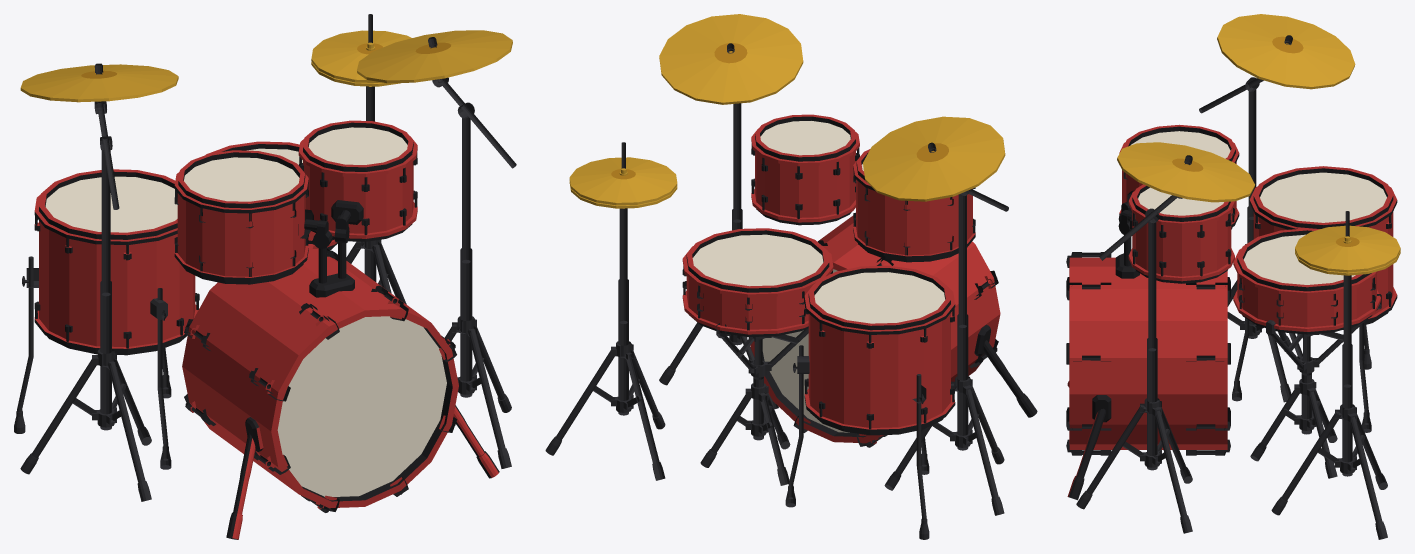
The model's file is DrumKit.fbx.
3 views of the same model, side by side, from view 1: azimuth 30°, elevation 25°; view 2: azimuth 150°, elevation 25°; view 3: azimuth 270°, elevation 25° (orthographic). The views are drawn at different scales.
Visible parts, largest first — view 1: bass_drum, floor_tom, mid_tom, high_tom, ride_cymbal_stand, crash_cymbal_stand, crash_cymbal, ride_cymbal, floor_tom_stand, high_hat_upper, high_hat_stand, snare; view 2: floor_tom, snare, bass_drum, high_tom, crash_cymbal, ride_cymbal, mid_tom, ride_cymbal_stand, high_hat_stand, snare_stand, high_hat_upper, floor_tom_stand (+1 smaller); view 3: bass_drum, snare, floor_tom, high_tom, ride_cymbal, crash_cymbal_stand, crash_cymbal, high_hat_stand, high_hat_upper, snare_stand, ride_cymbal_stand, mid_tom (+2 smaller).
Part boxes in pixels (left/top/right/bottom): bass_drum: left=182, top=200, right=499, bottom=539; floor_tom: left=34, top=169, right=199, bottom=355; mid_tom: left=174, top=150, right=308, bottom=284; high_tom: left=298, top=120, right=417, bottom=241; ride_cymbal_stand: left=20, top=63, right=151, bottom=501; crash_cymbal_stand: left=428, top=37, right=516, bottom=468; crash_cymbal: left=357, top=30, right=512, bottom=83; ride_cymbal: left=20, top=64, right=178, bottom=102; floor_tom_stand: left=14, top=256, right=171, bottom=469; high_hat_upper: left=311, top=14, right=411, bottom=86; high_hat_stand: left=346, top=86, right=406, bottom=304; snare: left=206, top=141, right=337, bottom=248; floor_tom: left=804, top=265, right=955, bottom=435; snare: left=682, top=228, right=833, bottom=336; bass_drum: left=750, top=215, right=1037, bottom=447; high_tom: left=751, top=114, right=859, bottom=225; crash_cymbal: left=659, top=14, right=803, bottom=104; ride_cymbal: left=863, top=116, right=1005, bottom=201; mid_tom: left=853, top=149, right=975, bottom=262; ride_cymbal_stand: left=884, top=142, right=1008, bottom=515; high_hat_stand: left=545, top=208, right=665, bottom=480; snare_stand: left=700, top=323, right=808, bottom=485; high_hat_upper: left=569, top=142, right=677, bottom=208; floor_tom_stand: left=785, top=345, right=929, bottom=539; bass_drum: left=1066, top=190, right=1230, bottom=500; snare: left=1233, top=228, right=1380, bottom=334; floor_tom: left=1249, top=166, right=1397, bottom=329; high_tom: left=1128, top=184, right=1234, bottom=283; ride_cymbal: left=1217, top=14, right=1355, bottom=89; crash_cymbal_stand: left=1076, top=155, right=1192, bottom=533; crash_cymbal: left=1117, top=142, right=1254, bottom=202; high_hat_stand: left=1271, top=275, right=1387, bottom=539; high_hat_upper: left=1295, top=211, right=1400, bottom=272; snare_stand: left=1250, top=294, right=1381, bottom=478; ride_cymbal_stand: left=1199, top=35, right=1292, bottom=402; mid_tom: left=1119, top=124, right=1239, bottom=229.
Bounding box in the file's own units: 131 × 109 × 95.51.
